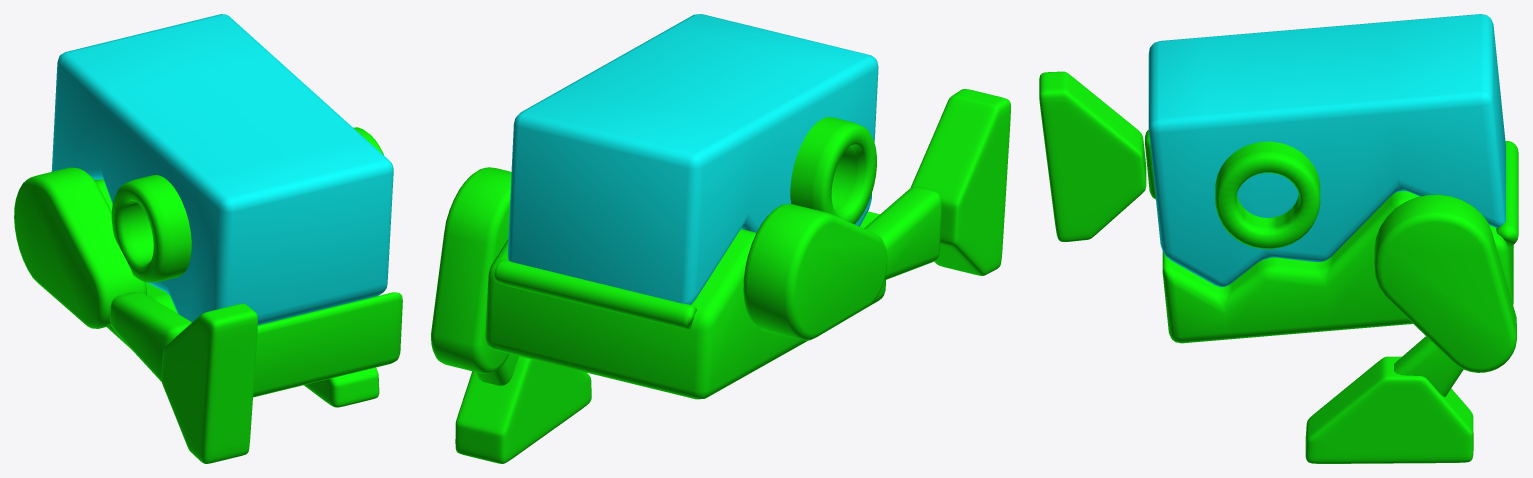
3 renders of one model, left to right at view 1: azimuth 30°, elevation 25°; view 2: azimuth 150°, elevation 25°; view 3: azimuth 270°, elevation 25°, orthographic. The views are drawn at different scales.
Parts seen in each view (by area): view 1: Top_Jaw, Thighs_Left, Feet_Left, Lower_Jaw, Eyes, Shin_Left, Feet_Right; view 2: Top_Jaw, Lower_Jaw, Thighs_Left, Feet_Left, Thighs_Right, Feet_Right, Eyes, Hinge, Shin_Left, Shin_Right; view 3: Top_Jaw, Lower_Jaw, Thighs_Right, Feet_Right, Feet_Left, Eyes, Shin_Right, Hinge.
Boxes of the visible parts, box(x1,y1,x2,y2) form: Top_Jaw: box(51, 14, 393, 325); Thighs_Left: box(14, 167, 146, 328); Feet_Left: box(161, 303, 257, 463); Lower_Jaw: box(94, 179, 402, 397); Eyes: box(111, 127, 383, 282); Shin_Left: box(110, 291, 191, 381); Feet_Right: box(304, 367, 379, 407); Top_Jaw: box(507, 14, 878, 304); Lower_Jaw: box(485, 211, 885, 399); Thighs_Left: box(743, 204, 887, 340); Feet_Left: box(910, 89, 1010, 275); Thighs_Right: box(431, 167, 511, 373); Feet_Right: box(455, 356, 591, 463); Eyes: box(790, 117, 876, 224); Hinge: box(494, 260, 696, 329); Shin_Left: box(864, 186, 941, 280); Shin_Right: box(476, 354, 518, 385); Top_Jaw: box(1148, 14, 1505, 287); Lower_Jaw: box(1162, 191, 1513, 343); Thighs_Right: box(1374, 194, 1516, 372); Feet_Right: box(1305, 356, 1473, 463); Feet_Left: box(1039, 71, 1146, 241); Eyes: box(1215, 141, 1320, 248); Shin_Right: box(1394, 336, 1463, 396); Hinge: box(1496, 141, 1518, 246).
Bounding box in the file's own units: 2.03 × 2.16 × 2.76.
